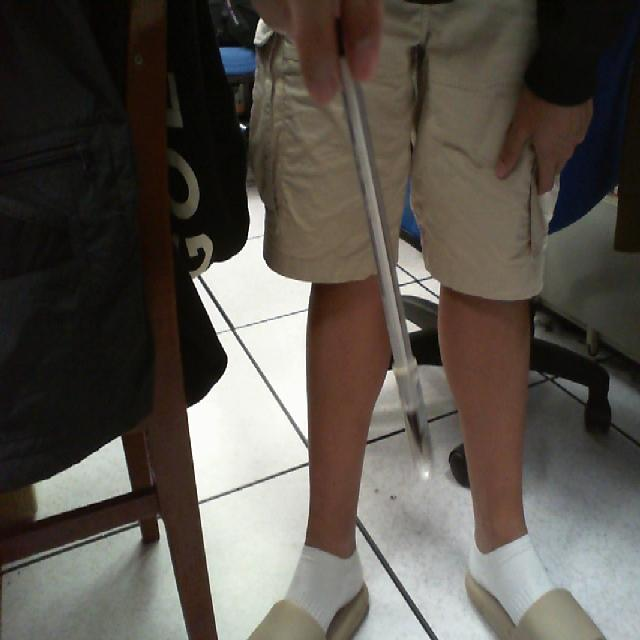Pen: (332, 0, 456, 544)
